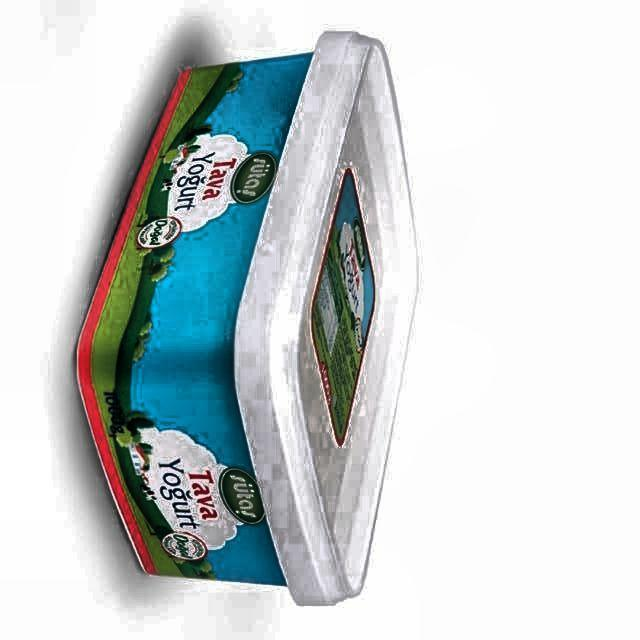plastic: (77, 33, 417, 604)
